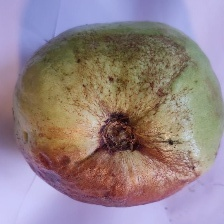guava: (16, 13, 214, 194)
